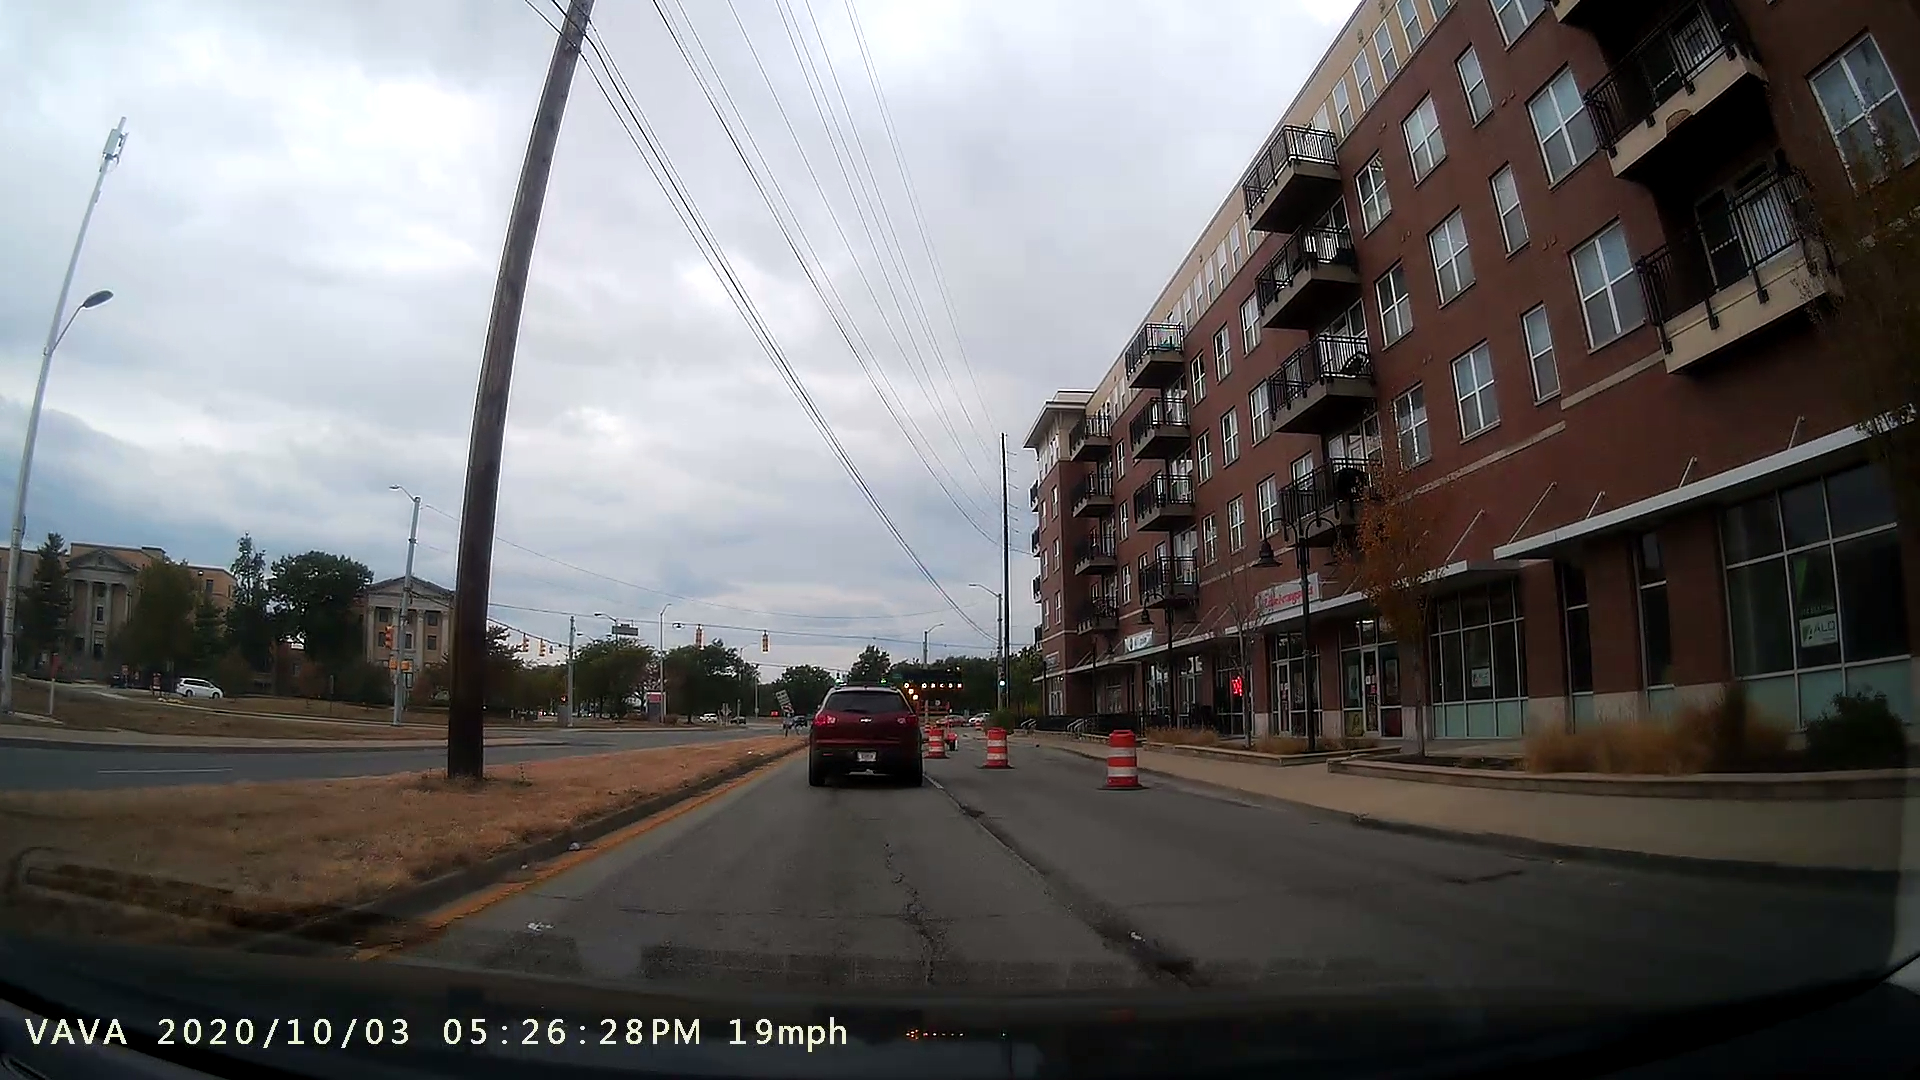const_barrel: (1089, 727, 1163, 796), (972, 717, 1025, 779)
